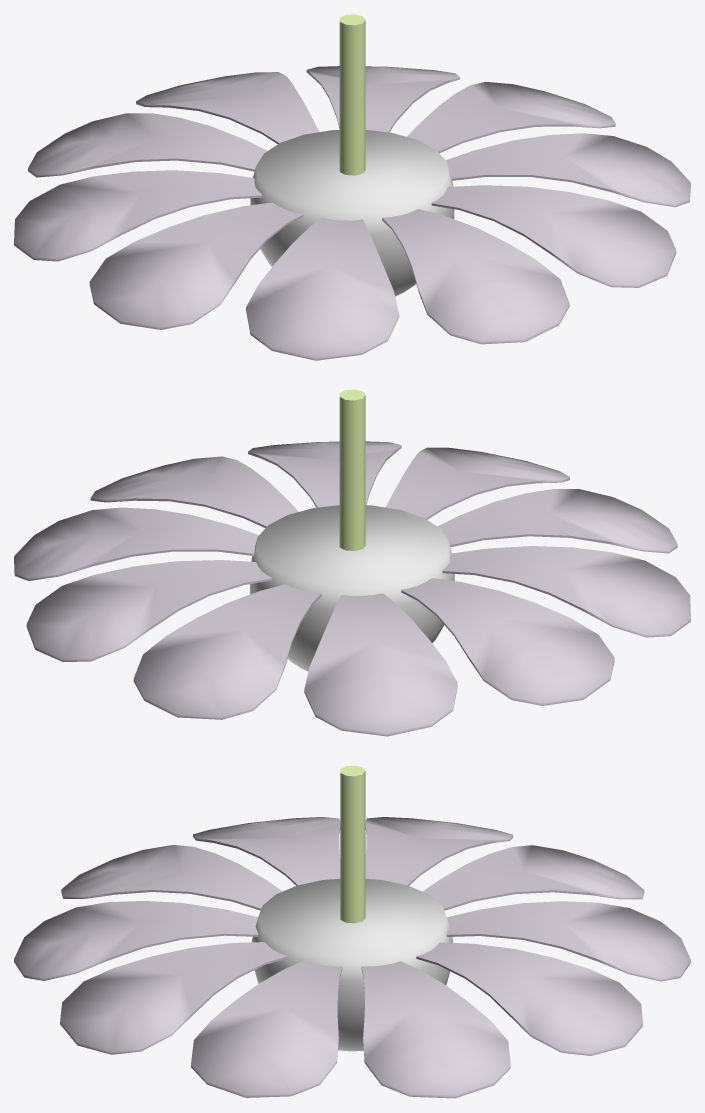
The model's file is LamppuKattoon.fbx.
3 views of the same model, one above another, from view 1: azimuth 30°, elevation 25°; view 2: azimuth 150°, elevation 25°; view 3: azimuth 270°, elevation 25° (orthographic). The views are drawn at different scales.
Parts seen in each view (by area): view 1: Plane; view 2: Plane; view 3: Plane.
Boxes of the visible parts, x1,y1,x2,y2 form: Plane: (14,14,690,360); Plane: (14,389,690,736); Plane: (14,765,690,1098).
Bounding box in the file's own units: 2.48 × 1.14 × 2.58.
